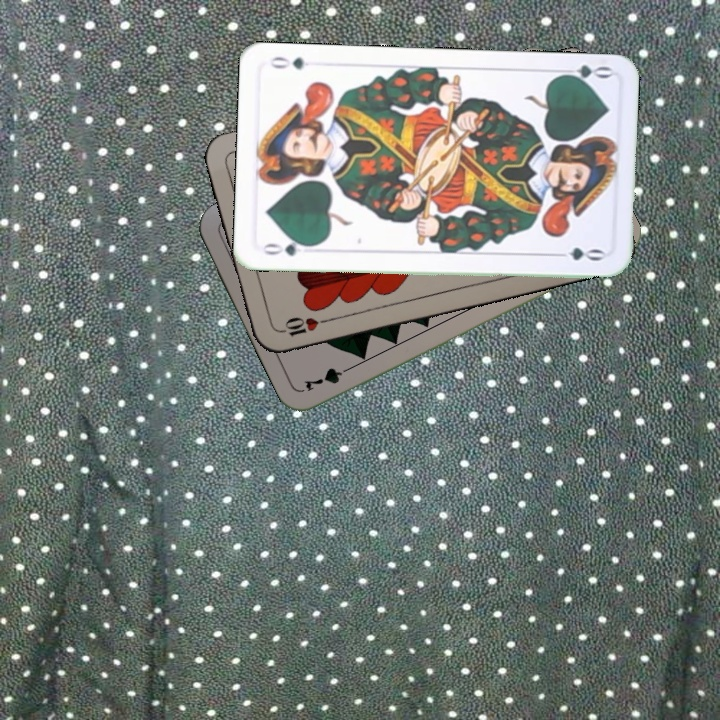G7: (300, 361, 357, 395)
GO: (554, 61, 613, 87), (259, 236, 317, 259)
H10: (273, 313, 332, 339)
